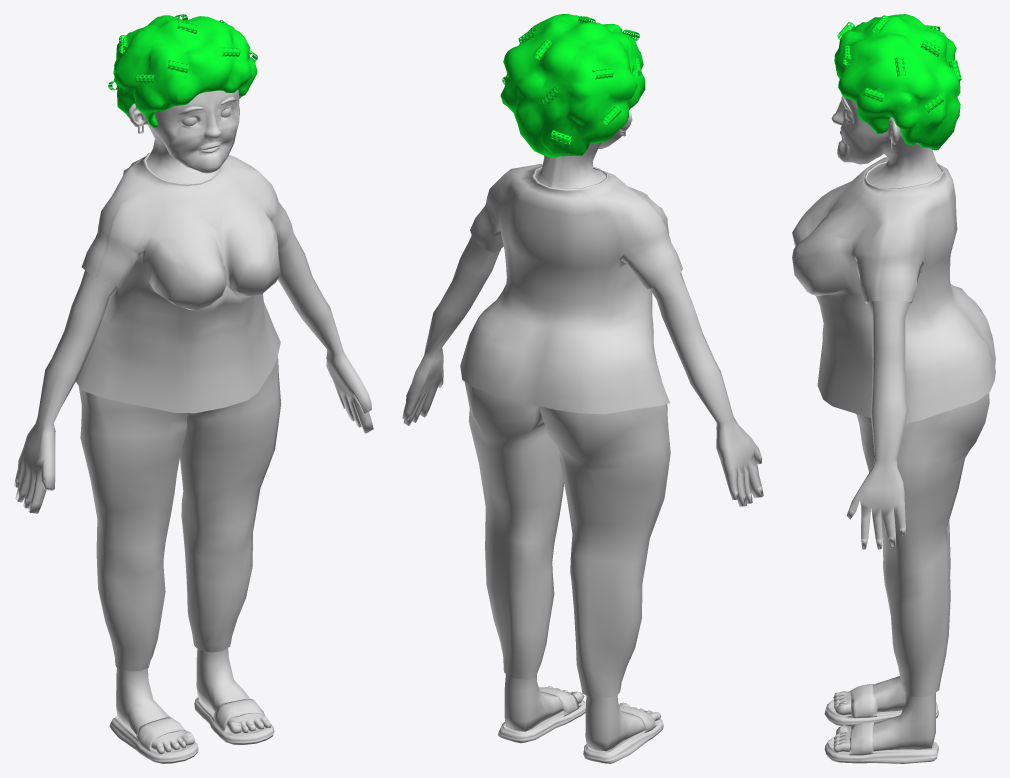
File: MariaAntonia_Character (1).fbx
3 views of the same model, side by side, from view 1: azimuth 30°, elevation 25°; view 2: azimuth 150°, elevation 25°; view 3: azimuth 270°, elevation 25° (orthographic).
Visible parts, largest first — view 1: Body; view 2: Body; view 3: Body.
Part boxes in pixels (x1,y1,x2,y2): Body: (14, 14, 373, 763); Body: (402, 14, 763, 763); Body: (792, 14, 995, 763).
Size of the model in its own units: 261 by 518 by 134.
